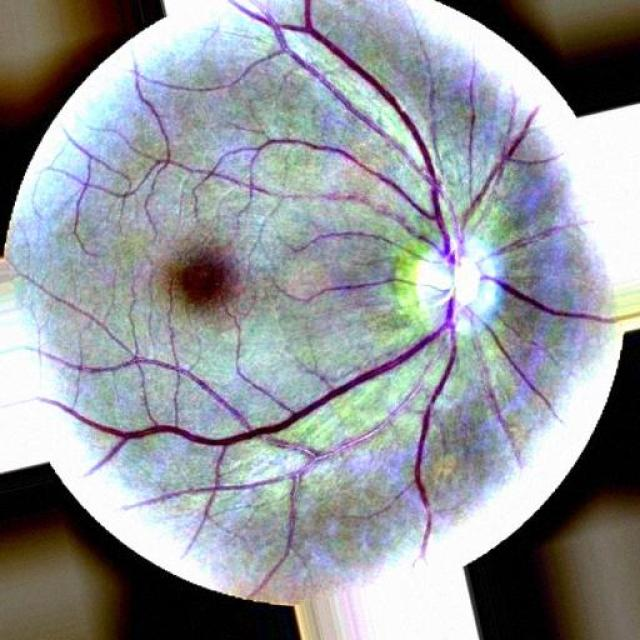Macula: (176, 260, 224, 304)
Nerves: (39, 0, 549, 600), (39, 348, 244, 419), (480, 271, 630, 324)
Optic Disk: (392, 235, 500, 334)
